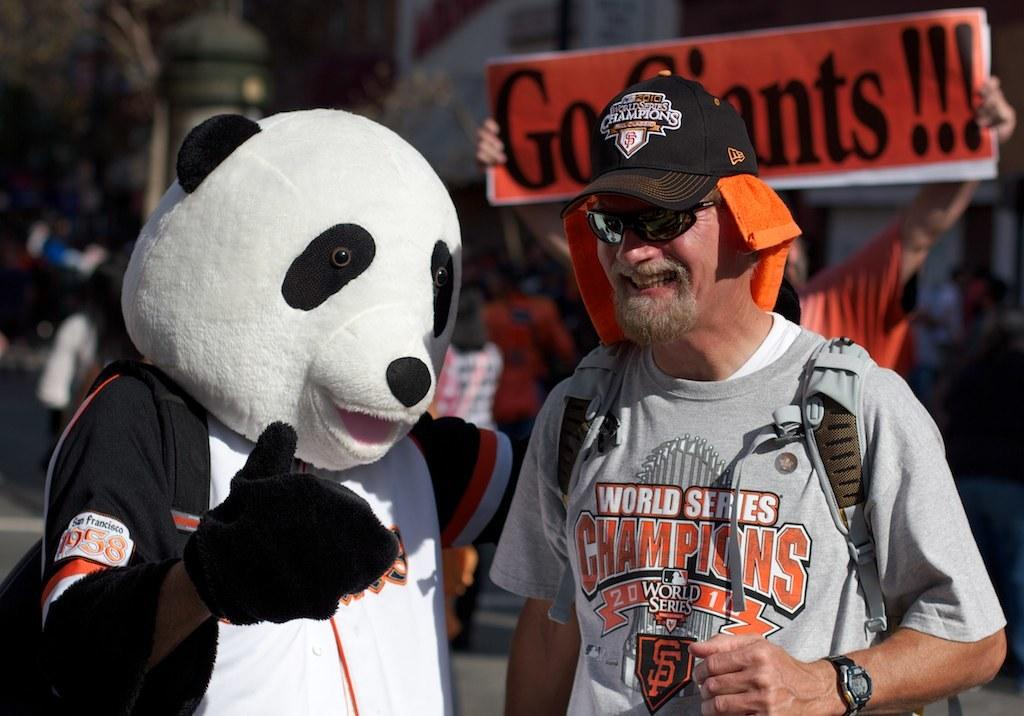Hat: (557, 68, 761, 220)
